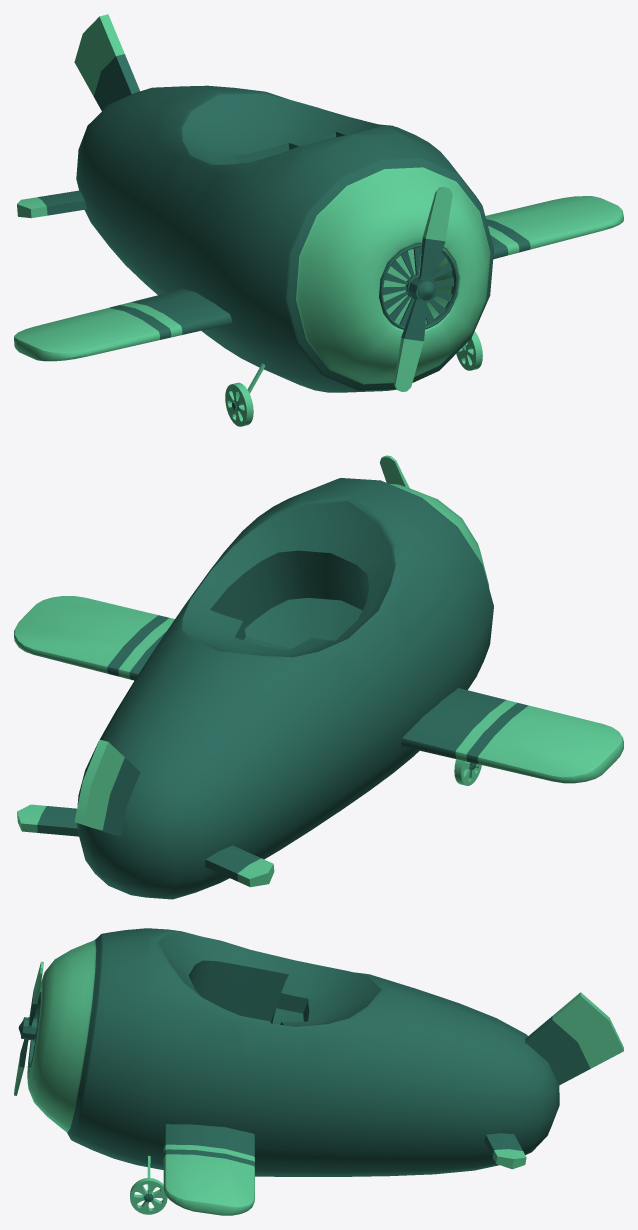
The picture shows the model from 3 angles, top to bottom: view 1: azimuth 30°, elevation 25°; view 2: azimuth 150°, elevation 25°; view 3: azimuth 270°, elevation 25°; orthographic projection. The views are drawn at different scales.
Parts seen in each view (by area): view 1: Plane_GLB; view 2: Plane_GLB; view 3: Plane_GLB.
Part boxes in pixels (bbox=[...]): Plane_GLB: bbox=[14, 14, 623, 426]; Plane_GLB: bbox=[14, 455, 623, 899]; Plane_GLB: bbox=[14, 928, 623, 1215].
Bounding box in the file's own units: 0.262 × 0.1127 × 0.2741.
